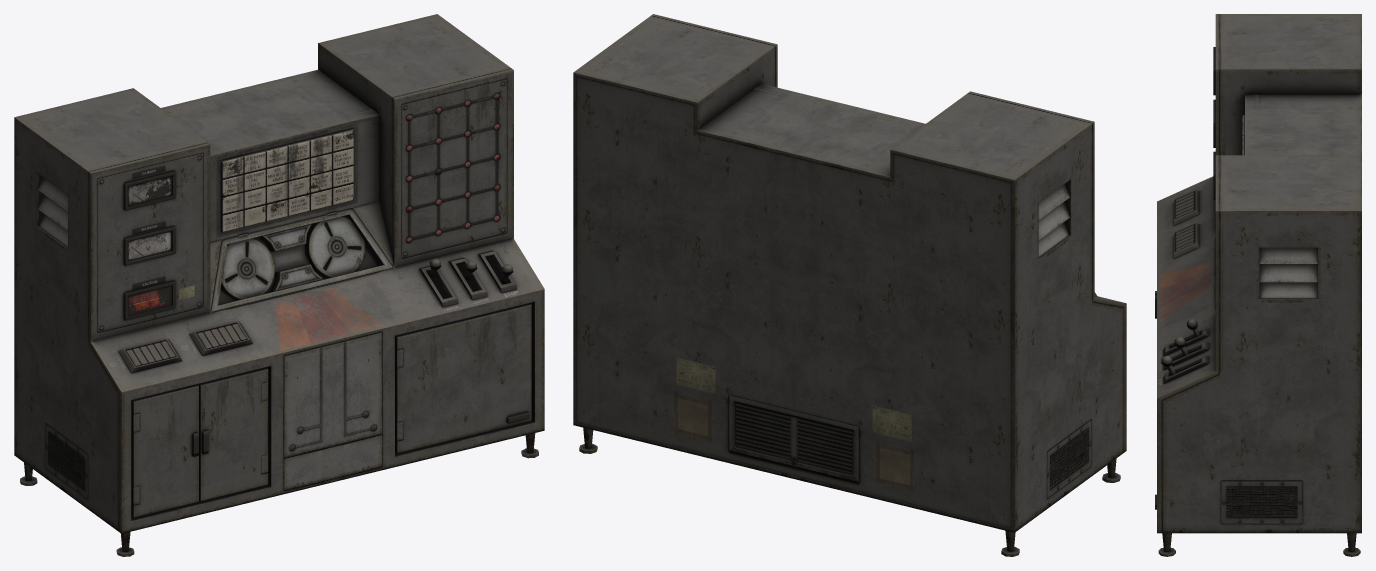
Rendered from terminal.glb.
3 renders of one model, left to right at view 1: azimuth 30°, elevation 25°; view 2: azimuth 150°, elevation 25°; view 3: azimuth 270°, elevation 25°, orthographic. The views are drawn at different scales.
Visible parts, largest first — view 1: Wittgenstein; view 2: Wittgenstein; view 3: Wittgenstein.
Boxes of the visible parts, x1,y1,x2,y2 form: Wittgenstein: [14, 14, 544, 556]; Wittgenstein: [573, 14, 1126, 556]; Wittgenstein: [1155, 14, 1361, 556].
Bounding box in the file's own units: 2.3 × 1.89 × 1.02.
Materials: 1 (1 with a texture image).
